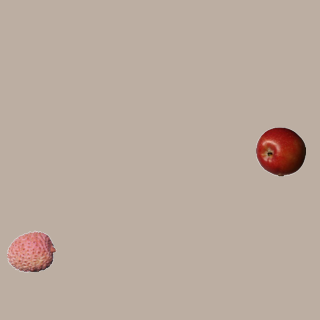Apple Braeburn: (255, 126, 305, 176)
Lychee: (6, 226, 56, 276)
